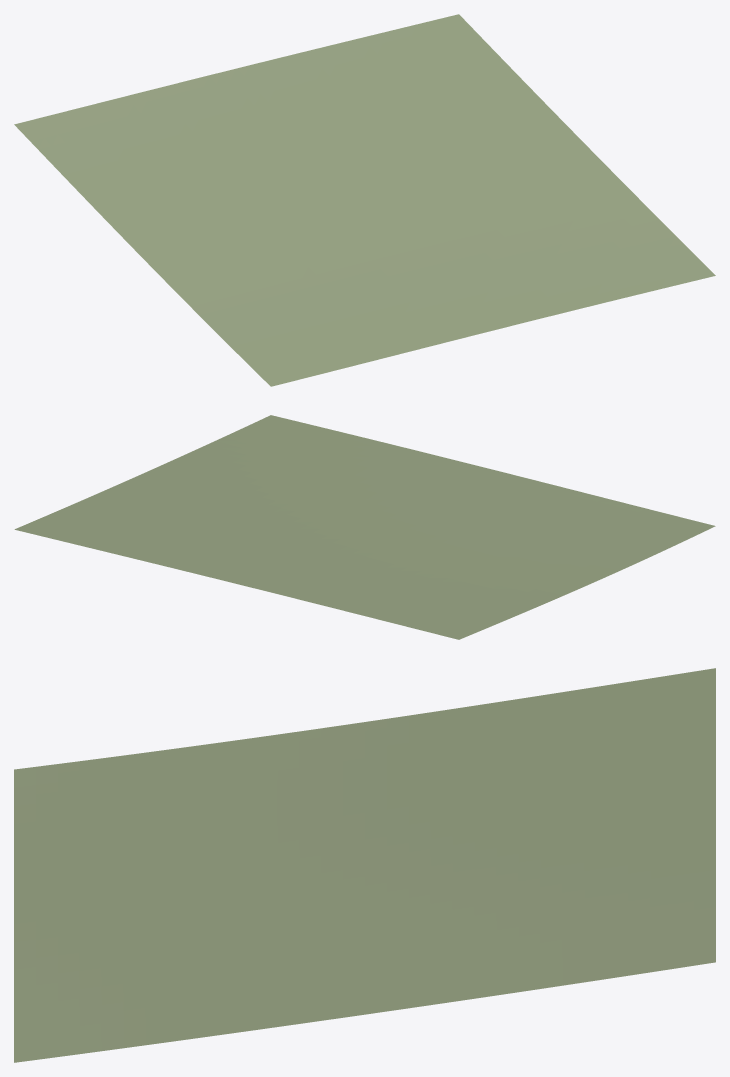
Rendered from desert-29-11.glb.
3 renders of one model, top to bottom at view 1: azimuth 30°, elevation 25°; view 2: azimuth 150°, elevation 25°; view 3: azimuth 270°, elevation 25°, orthographic. The views are drawn at different scales.
Parts seen in each view (by area): view 1: desert-29-11; view 2: desert-29-11; view 3: desert-29-11.
Part boxes in pixels (box(x1,y1,x2,y2)): desert-29-11: box(14, 14, 715, 386); desert-29-11: box(14, 415, 715, 639); desert-29-11: box(14, 668, 715, 1062).
Size of the model in its own units: 512 by 83.69 by 512.
